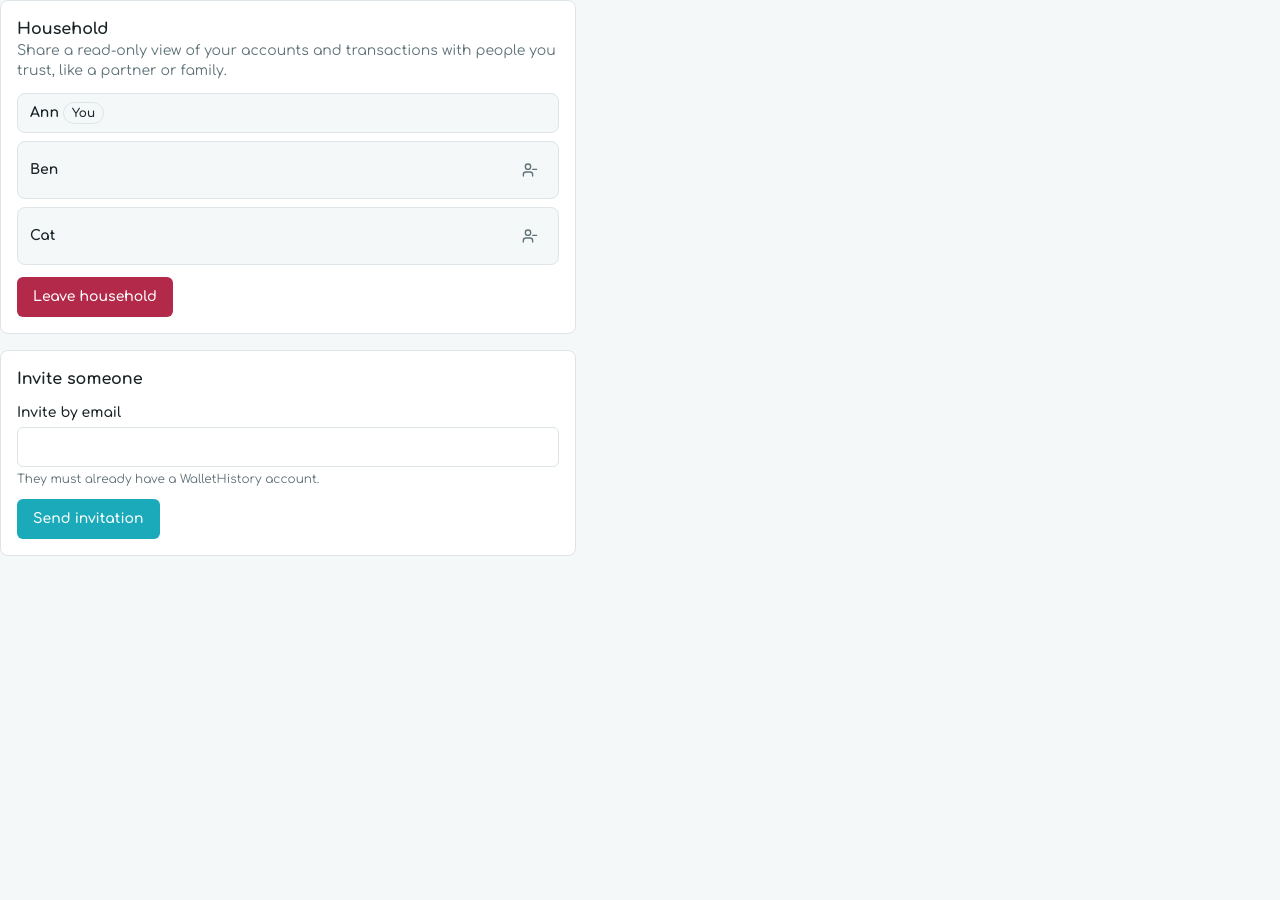
Test: HouseholdManager › describes leaving a bigger household generically
Click the button "Leave household". click: (95, 297)
box: [17,277,173,317]
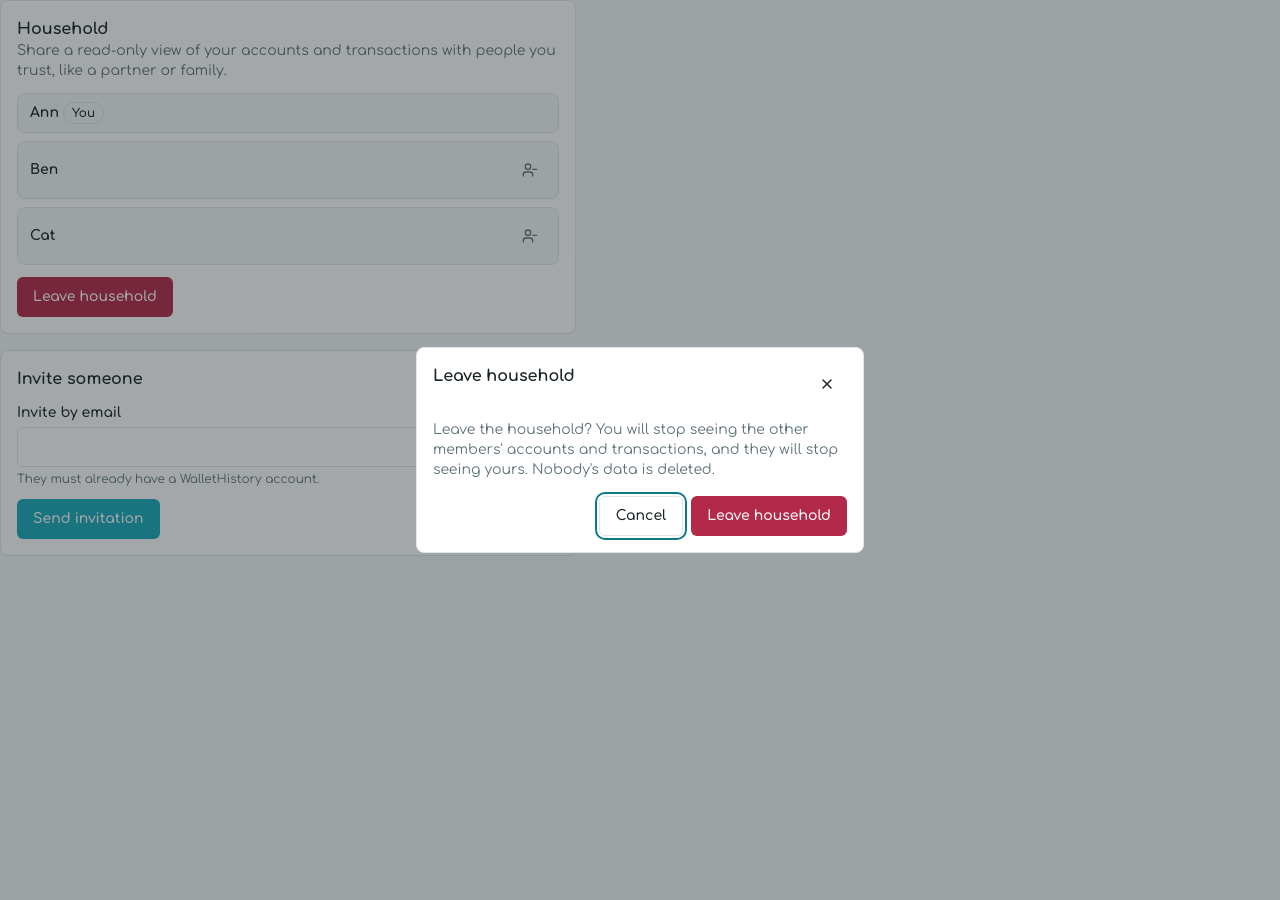
Check: the dialog shows "the other members'", box [433,422,838,477]
